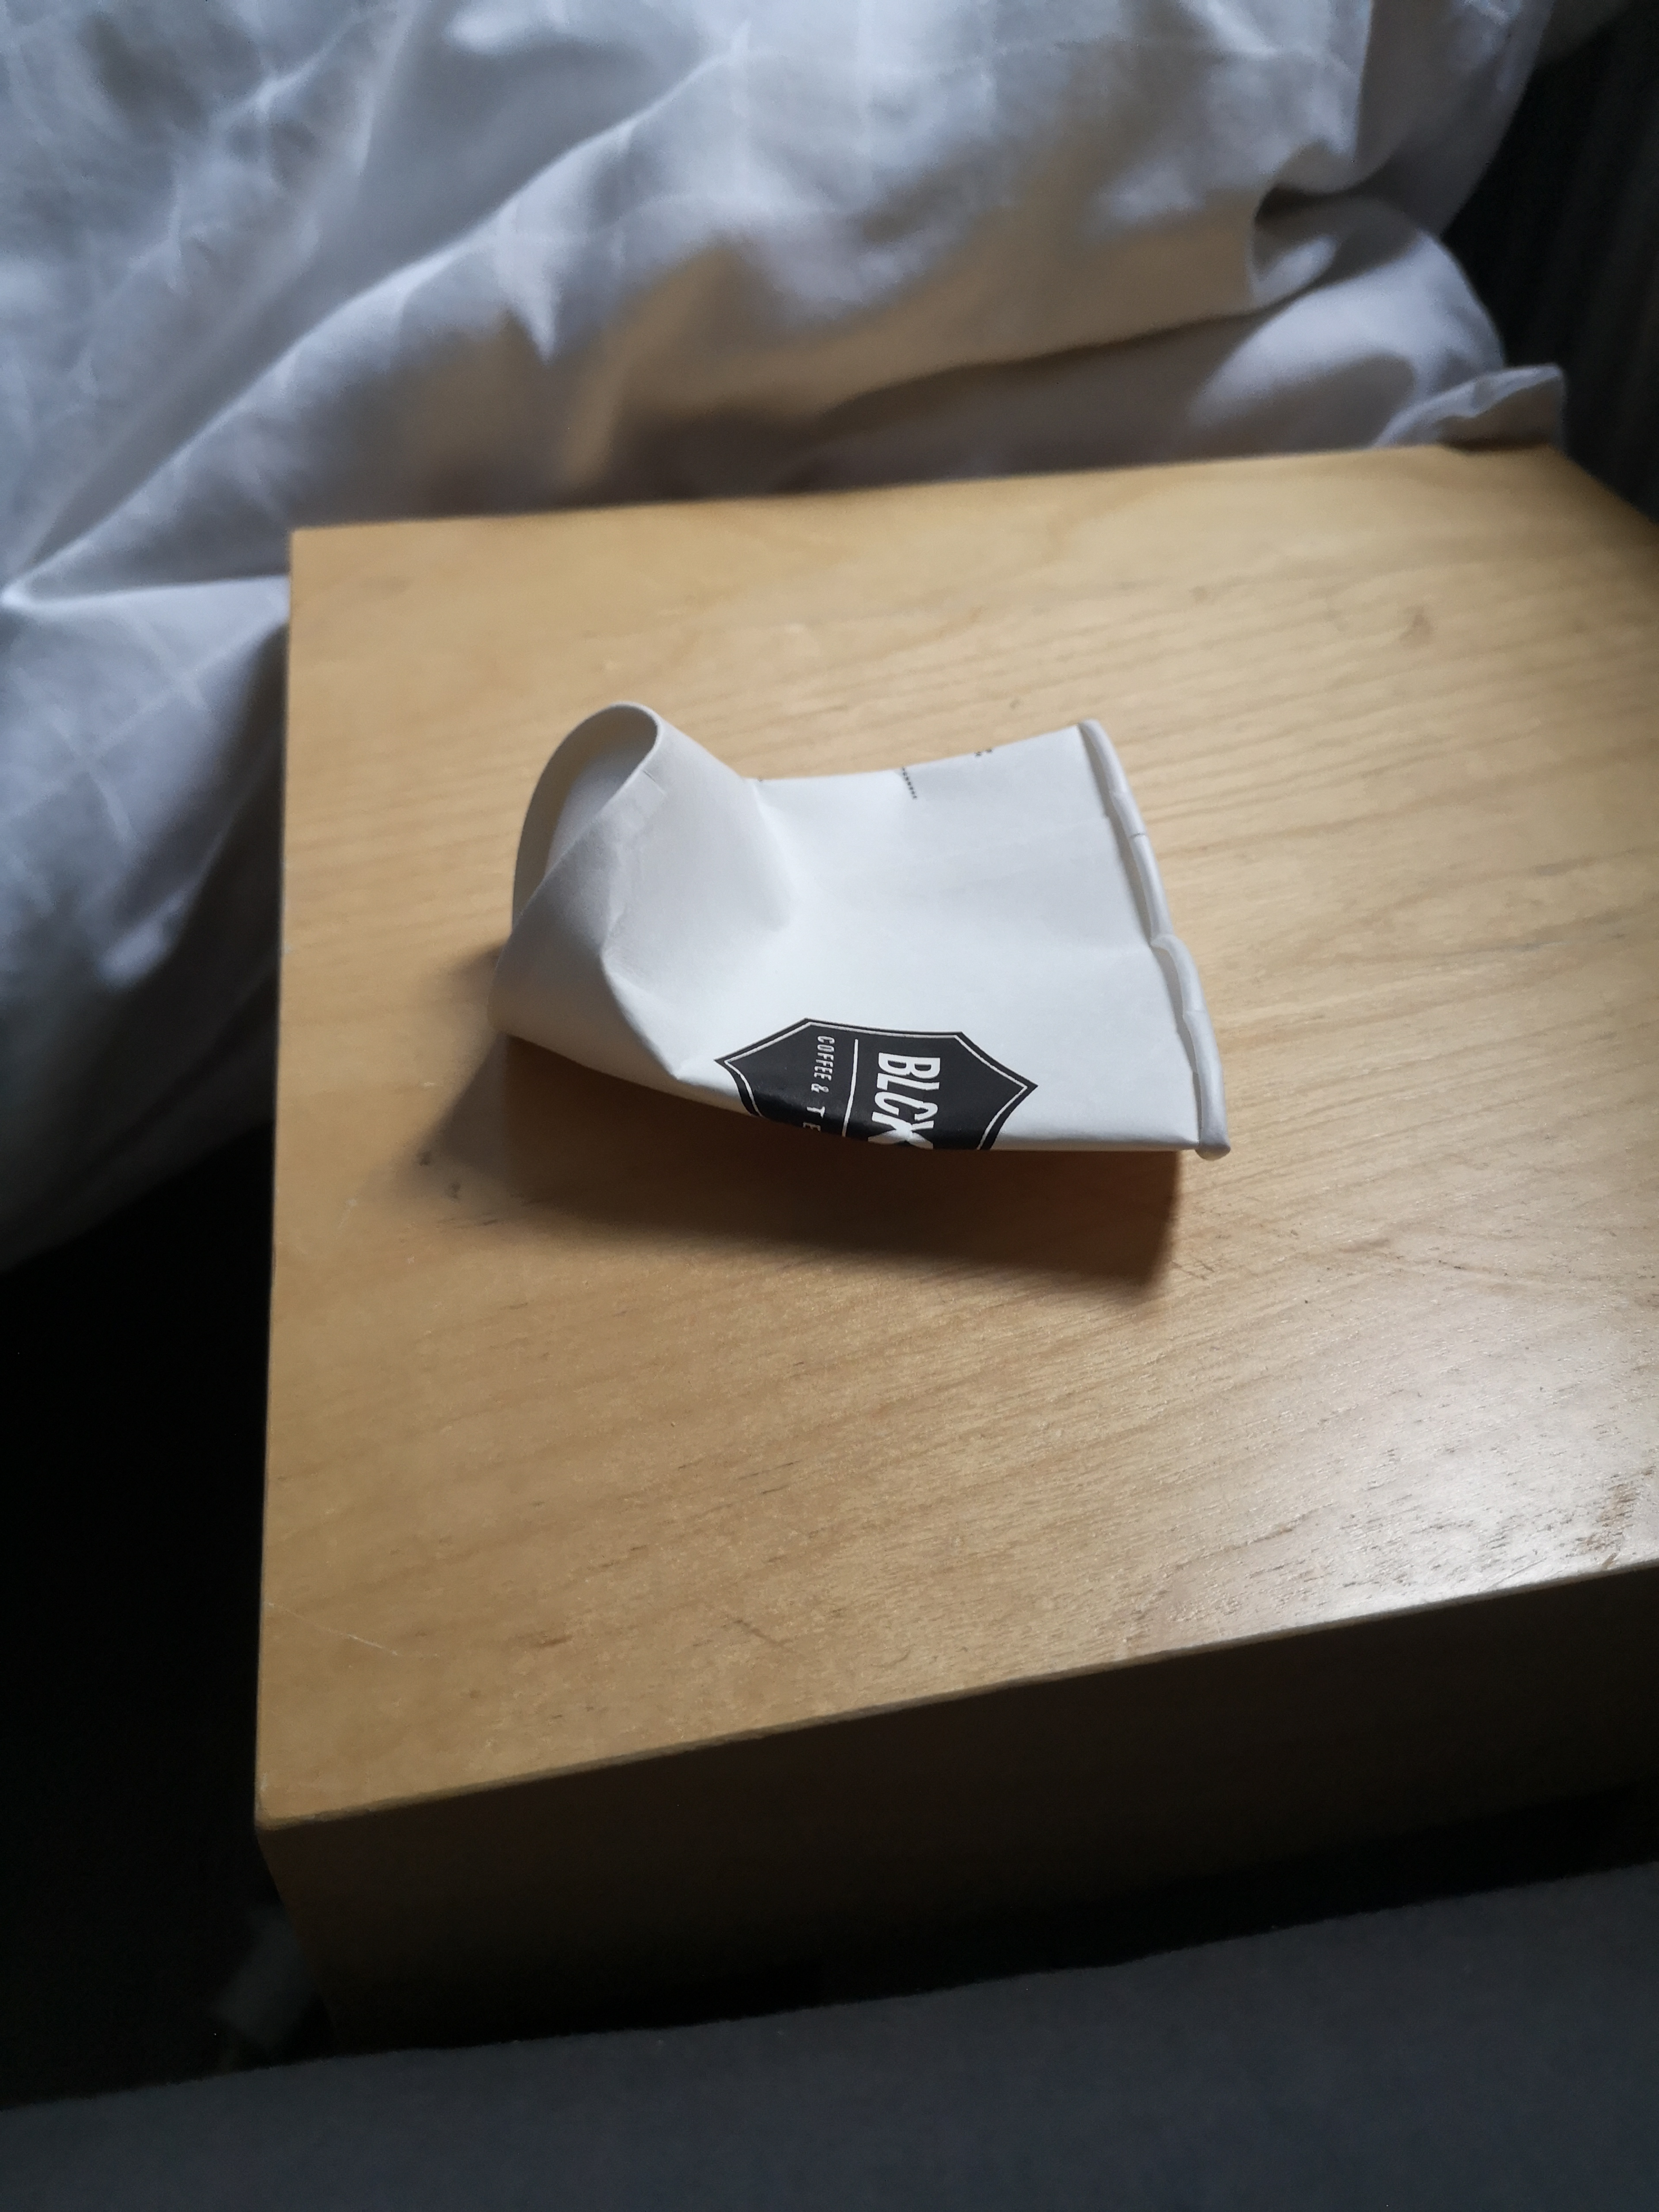cup: (460, 685, 1269, 1197)
